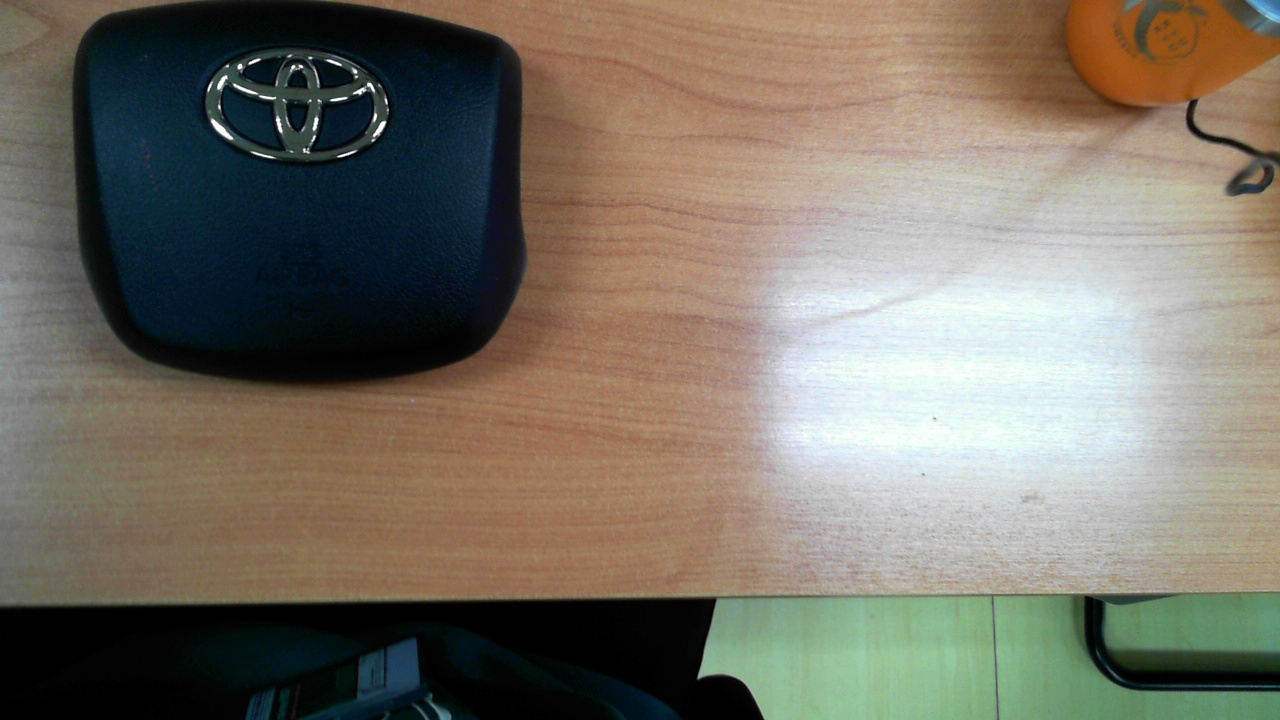Airbag: (71, 3, 529, 388)
Toyota: (205, 51, 389, 162)
